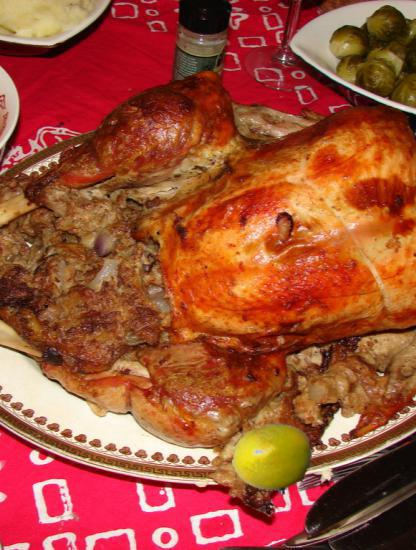Maracuja: (232, 420, 313, 501)
